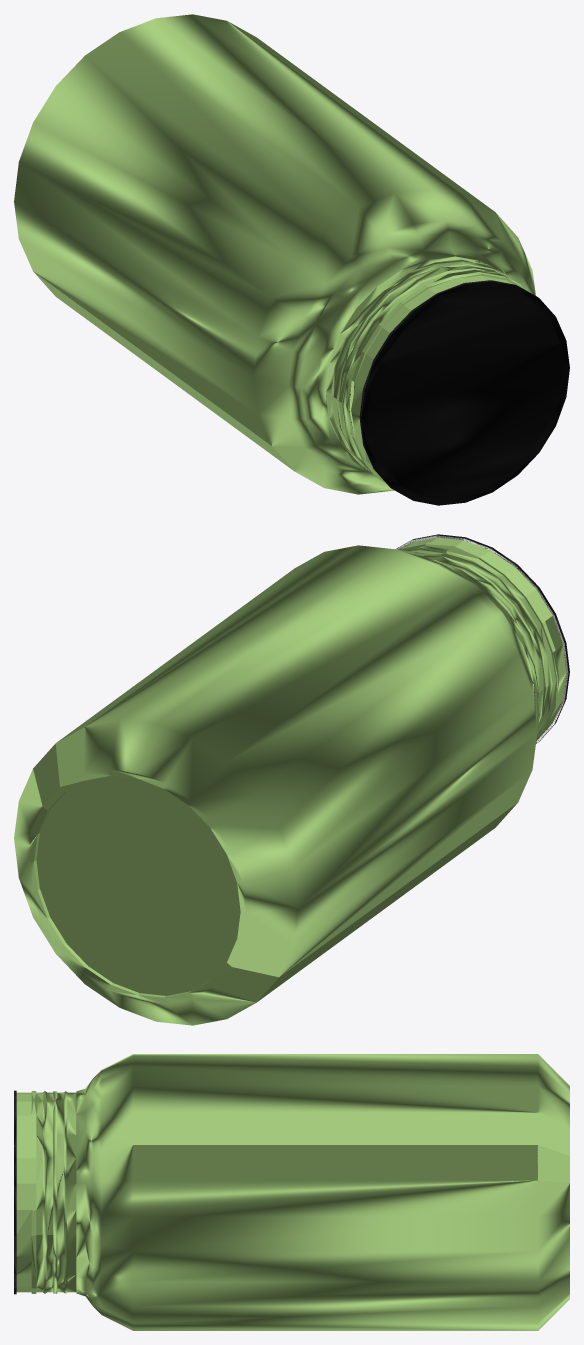
File: model_align.obj
The picture shows the model from 3 angles, top to bottom: view 1: azimuth 30°, elevation 25°; view 2: azimuth 150°, elevation 25°; view 3: azimuth 270°, elevation 25°; orthographic projection. The views are drawn at different scales.
Bounding box in the file's own units: 0.107 × 0.107 × 0.214.
